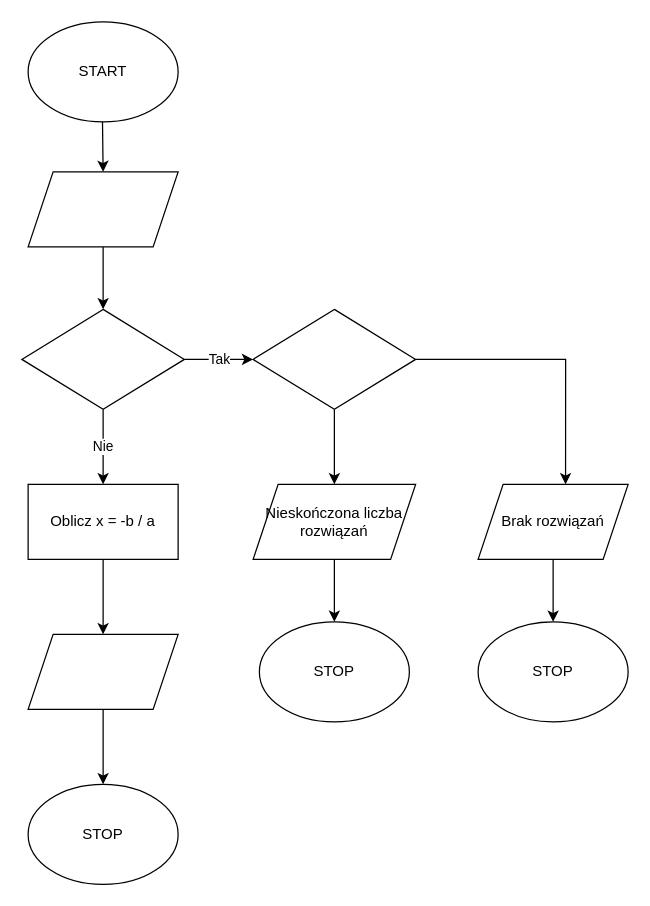
Image size: 650x906. Some labels were removed from this diagram. The centre of each missing label's shape, as x and y in pixels:
"czy a = 0?" goes at (x=102, y=358).
"czy b = 0?" goes at (x=334, y=358).
"Wczytaj a, b" goes at (x=102, y=209).
"Wypisz x" goes at (x=102, y=671).
